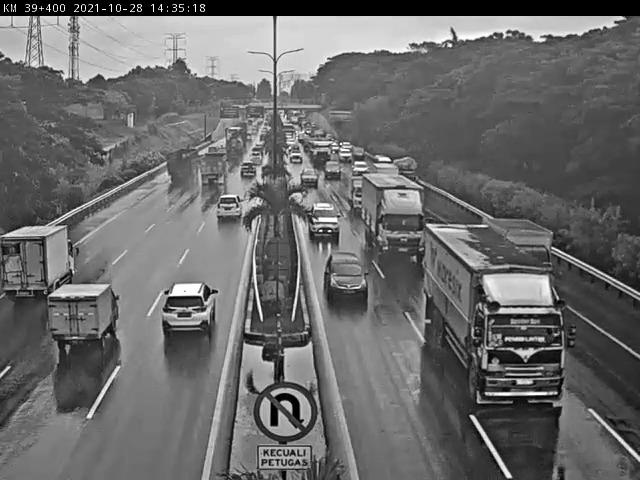big truck: (413, 223, 578, 403), (361, 177, 440, 260), (162, 147, 193, 192), (195, 154, 228, 196)
car: (42, 273, 127, 348), (153, 271, 213, 337), (327, 255, 379, 309), (306, 205, 347, 244), (209, 196, 245, 230), (319, 155, 342, 182), (295, 164, 321, 186), (233, 167, 257, 188), (88, 346, 89, 347)
small truck: (487, 203, 577, 285), (0, 228, 72, 302)
